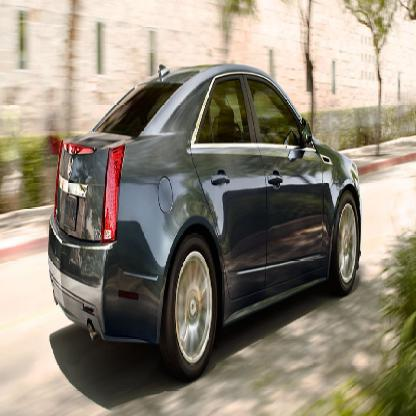Vehicle: (46, 60, 362, 385)
